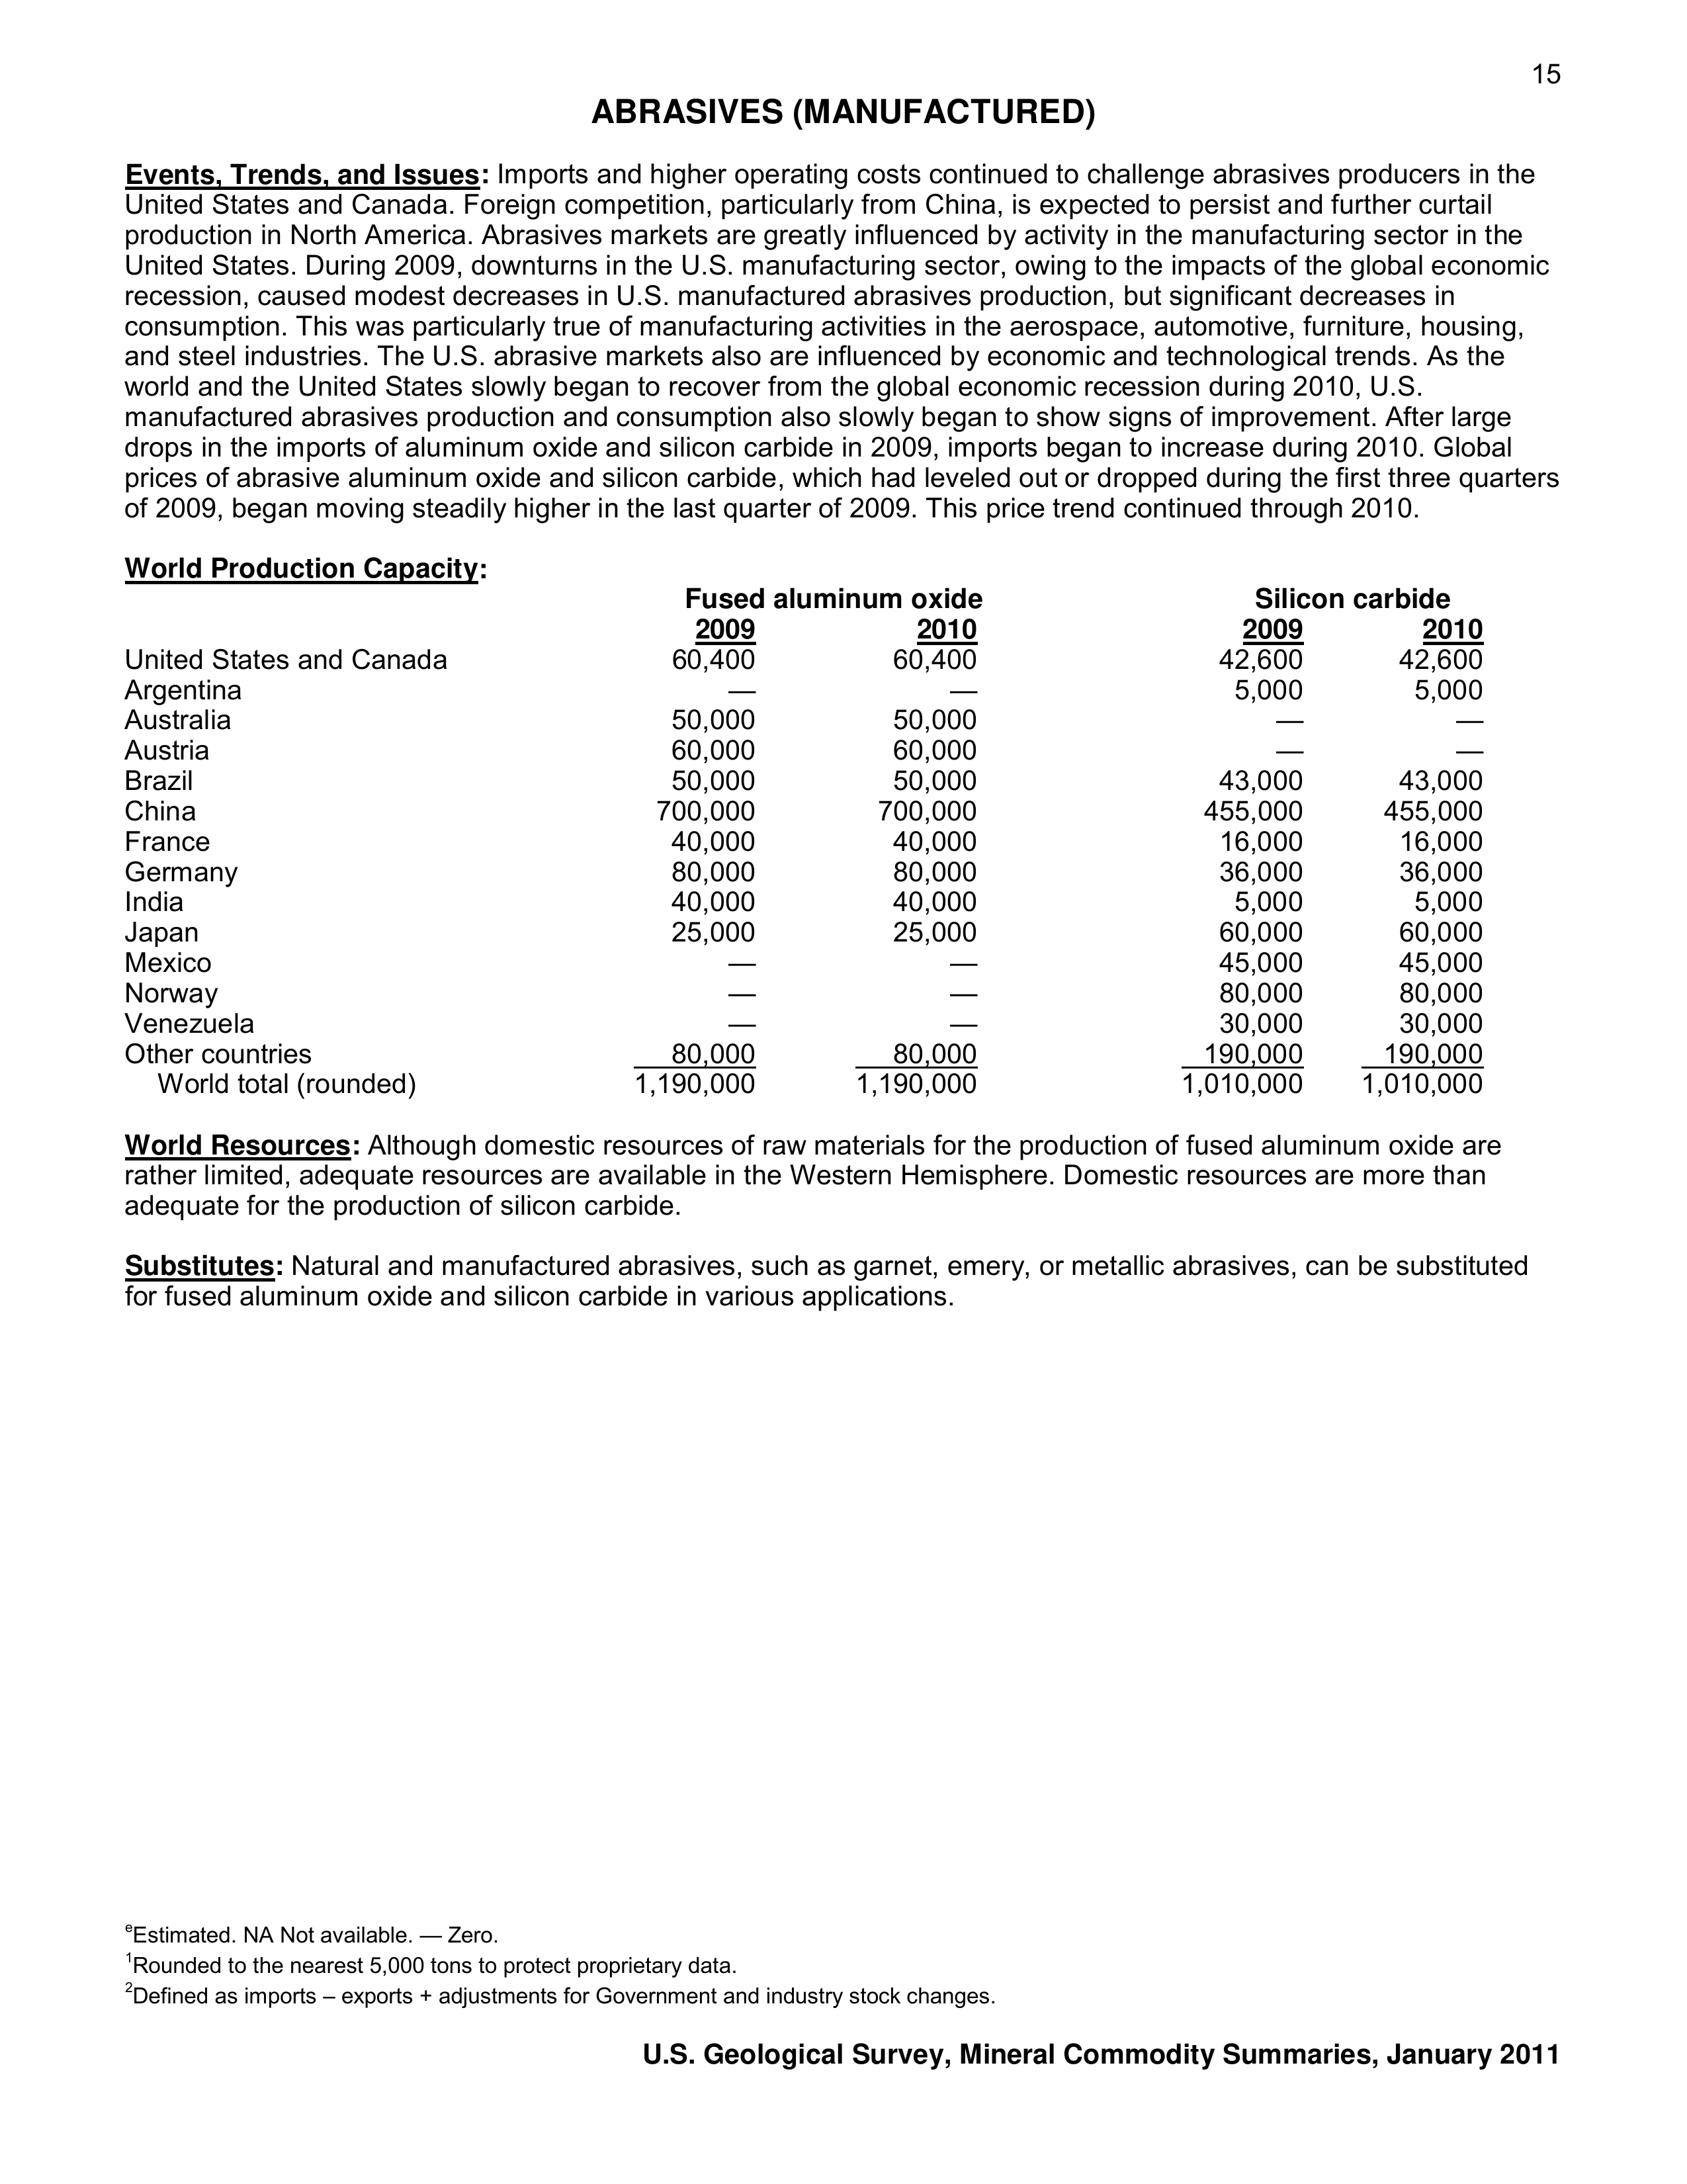table: (112, 583, 1506, 1109)
